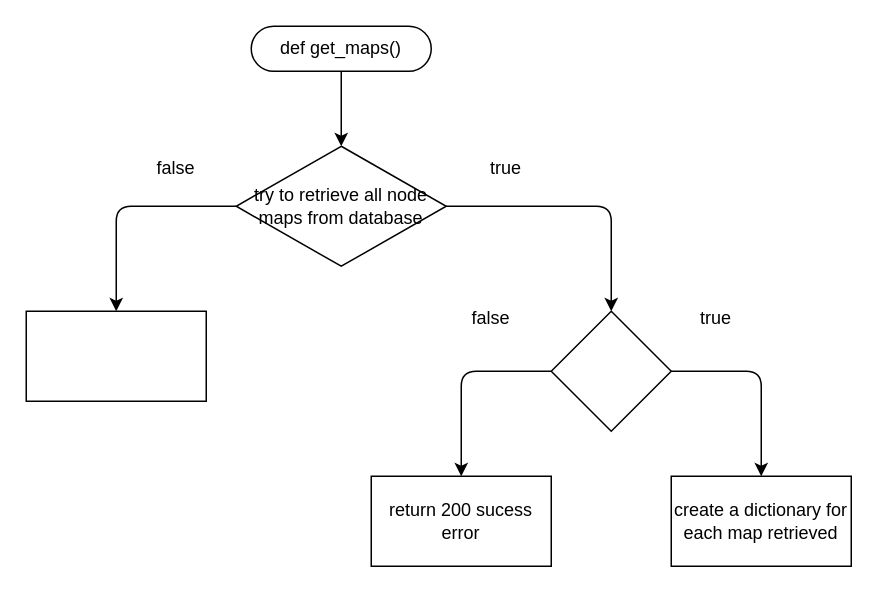
This 878x593 diagram has some shape labels left out. Each missing label, with the centre of its shape:
"node map in node maps" goes at pixel 610 370.
"return 500 internal server error" goes at pixel 115 355.
